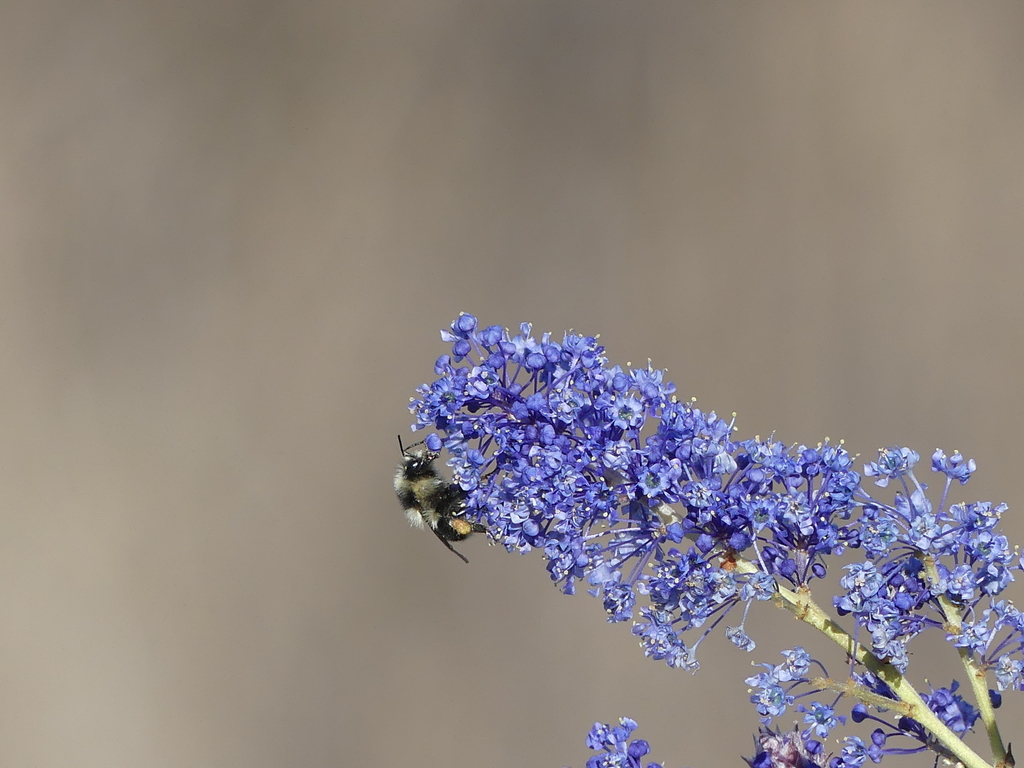bumblebee: (392, 430, 495, 565)
